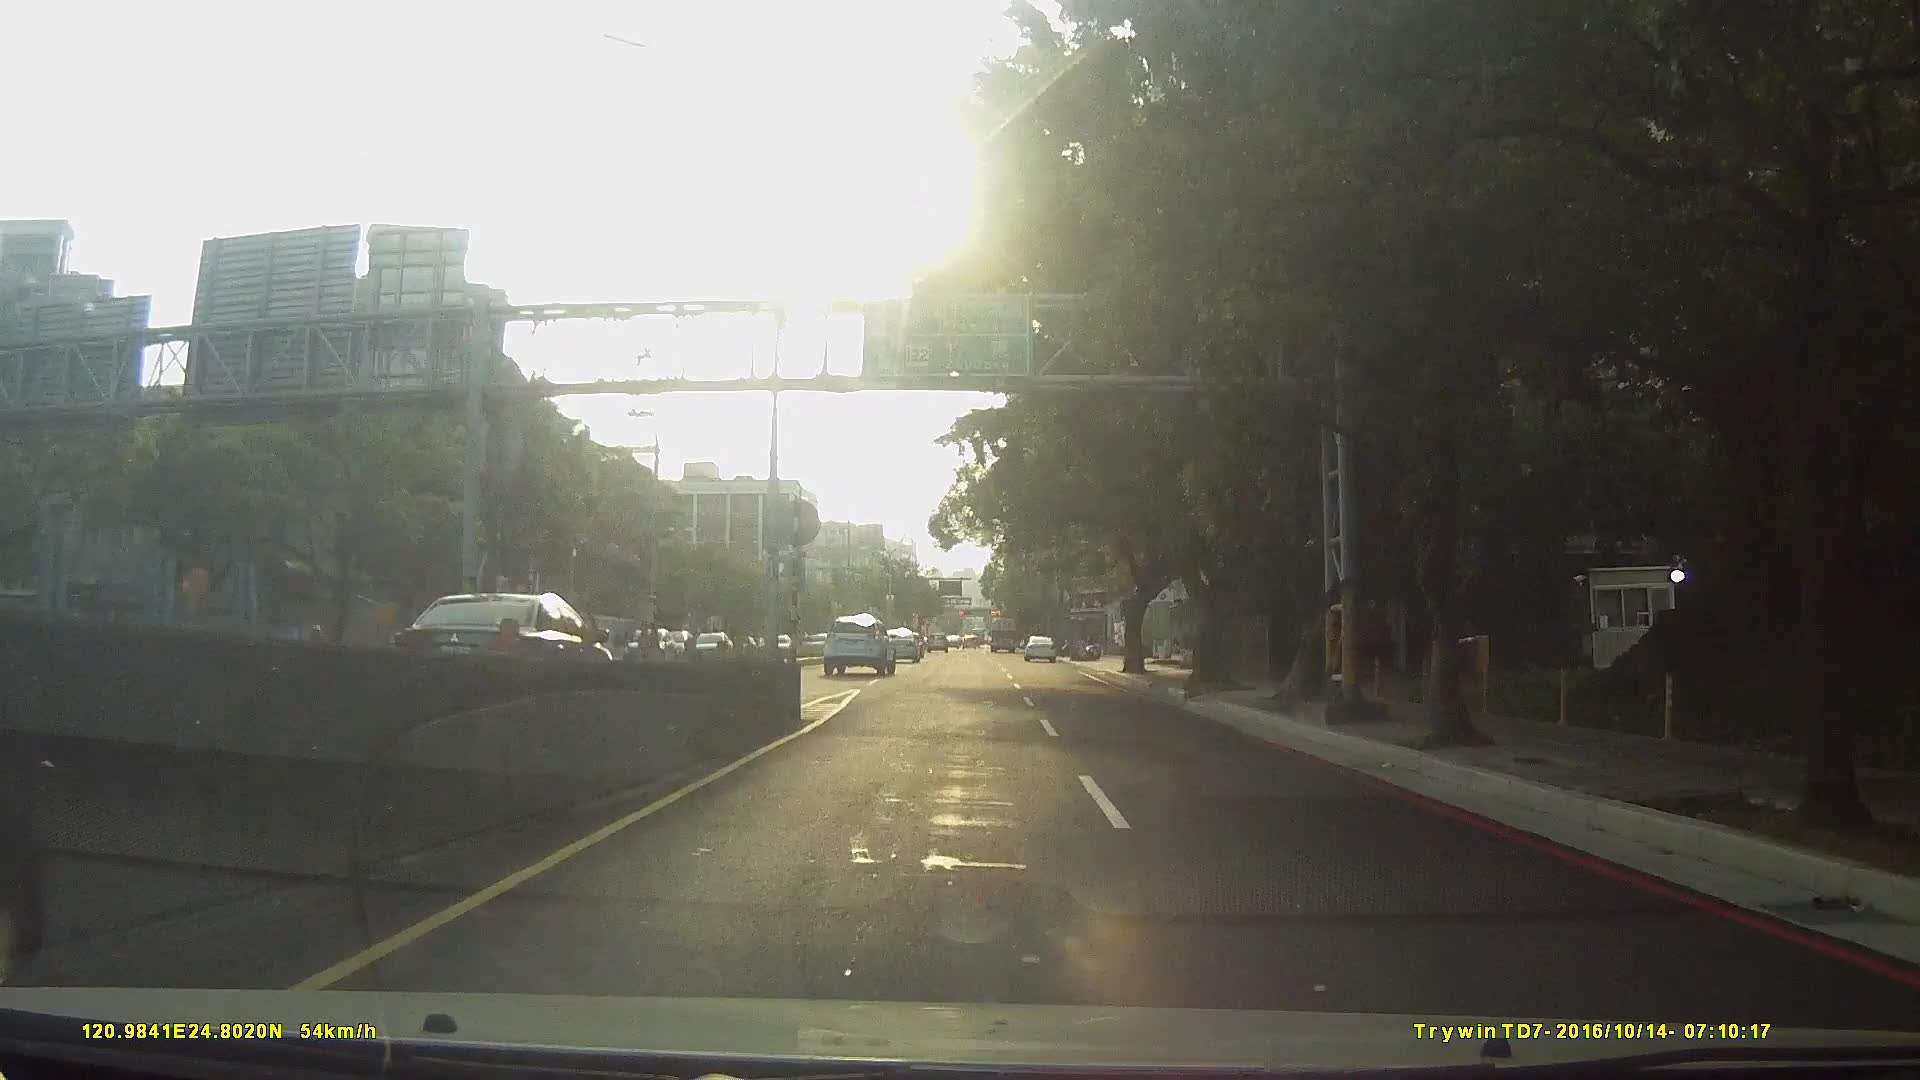vehicle: (394, 589, 613, 695), (822, 613, 895, 676), (878, 625, 922, 661), (986, 612, 1018, 650), (1021, 634, 1056, 662)
